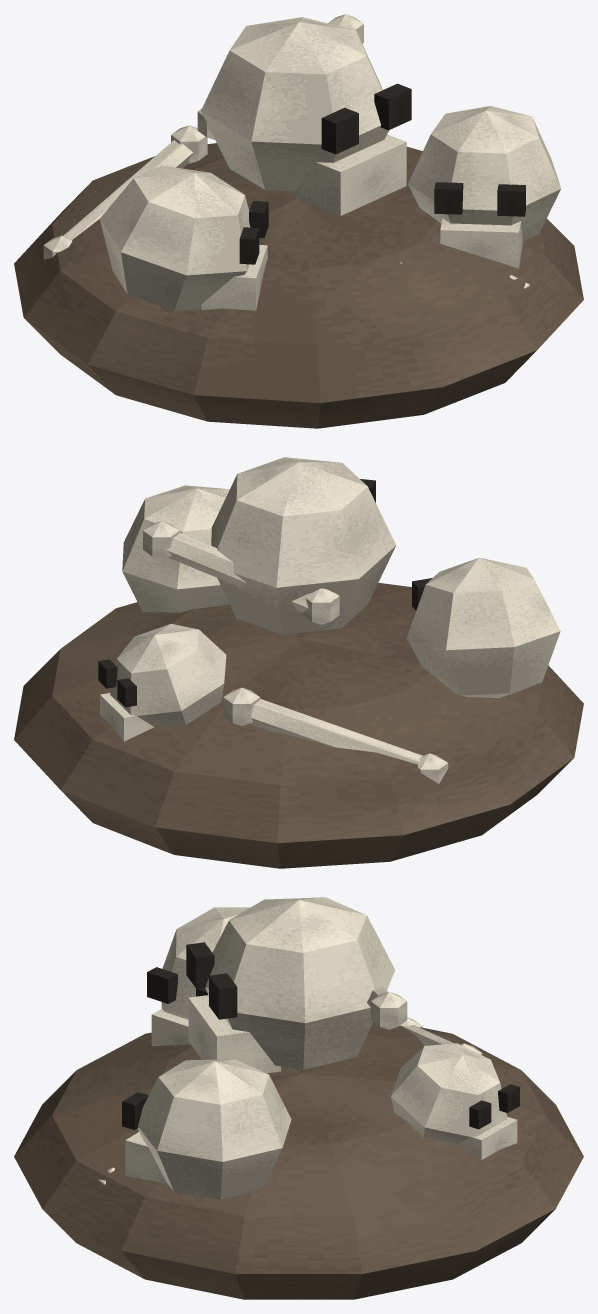
File: prop_skull_pile.glb
3 views of the same model, one above another, from view 1: azimuth 30°, elevation 25°; view 2: azimuth 150°, elevation 25°; view 3: azimuth 270°, elevation 25° (orthographic).
Parts seen in each view (by area): view 1: prop_skull_pile; view 2: prop_skull_pile; view 3: prop_skull_pile.
Part boxes in pixels (bbox=[...]): prop_skull_pile: bbox=[14, 14, 583, 428]; prop_skull_pile: bbox=[14, 457, 583, 868]; prop_skull_pile: bbox=[14, 897, 583, 1299].
Size of the model in its own units: 1.85 by 1.25 by 1.9.
1 material, 1 textured.
